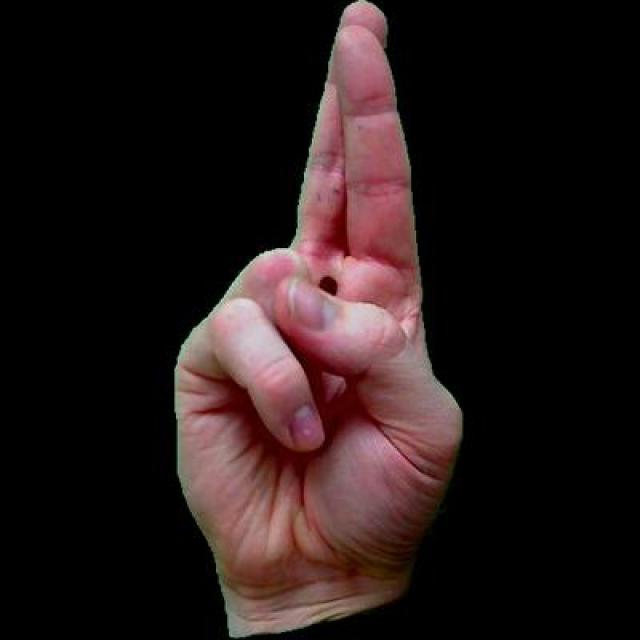r: (150, 0, 483, 637)
